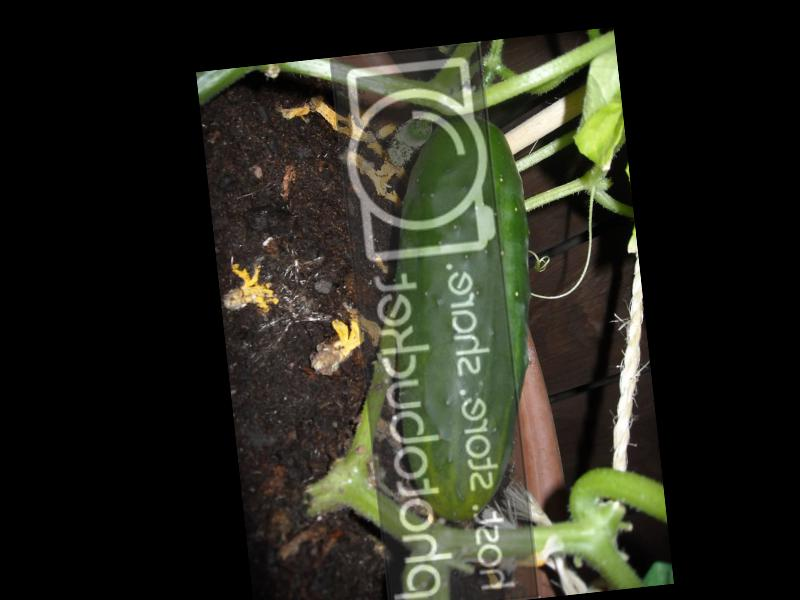Cucumber: (366, 112, 557, 526)
